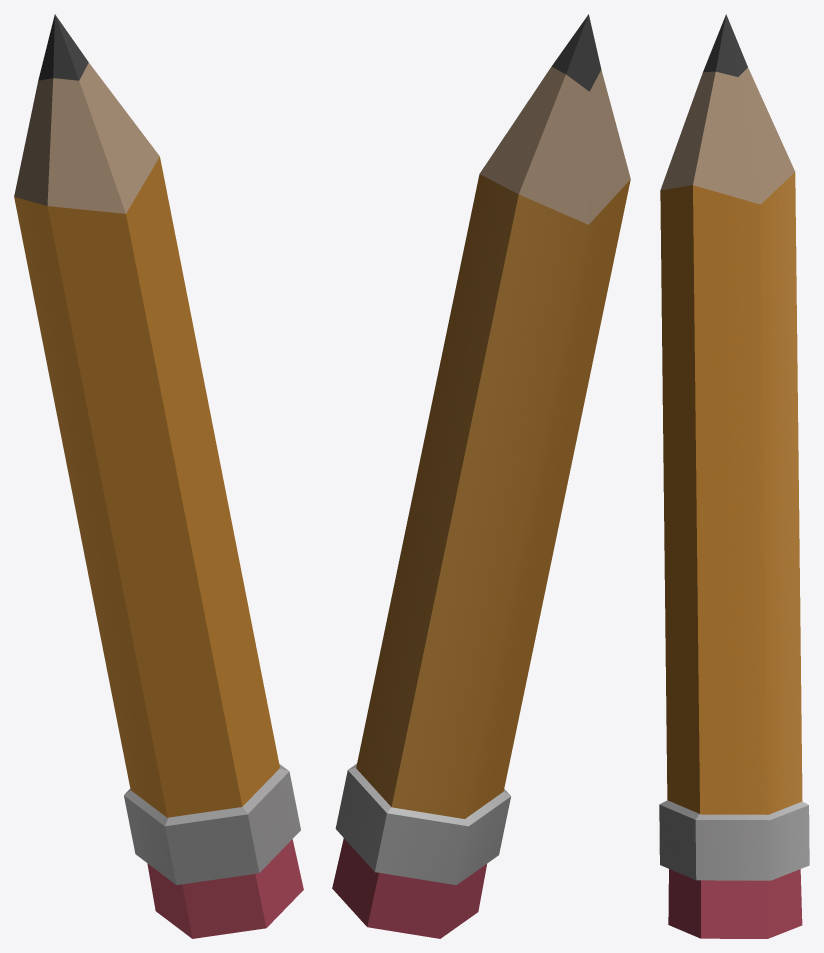
Rendered from Qianbi.FBX.
3 renders of one model, left to right at view 1: azimuth 30°, elevation 25°; view 2: azimuth 150°, elevation 25°; view 3: azimuth 270°, elevation 25°, orthographic. The views are drawn at different scales.
Visible parts, largest first — view 1: Object026; view 2: Object026; view 3: Object026.
Part boxes in pixels (box(x1,y1,x2,y2)): Object026: box(14, 14, 303, 938); Object026: box(332, 14, 630, 938); Object026: box(659, 14, 809, 938).
Bounding box in the file's own units: 1.93 × 6.69 × 1.08.
Materials: 1 (1 with a texture image).
